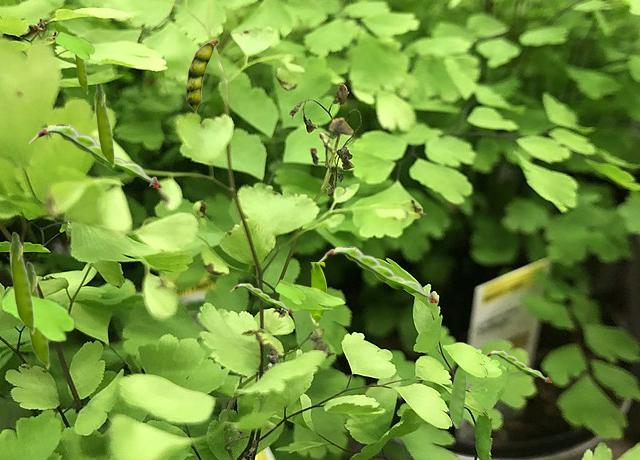pea: (29, 124, 161, 186), (318, 246, 437, 301), (9, 231, 34, 334), (26, 261, 49, 369), (186, 39, 217, 115), (486, 350, 550, 381), (230, 283, 292, 311), (94, 82, 114, 167), (449, 367, 465, 427), (310, 262, 325, 324), (74, 55, 87, 93)
